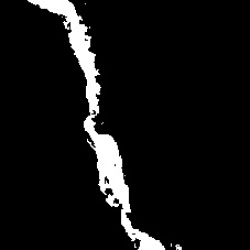crack: (28, 1, 166, 249)
